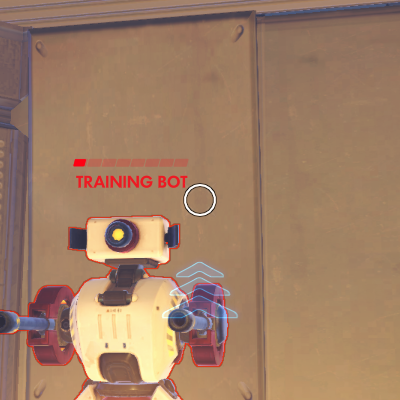hpbar: (73, 158, 189, 167)
